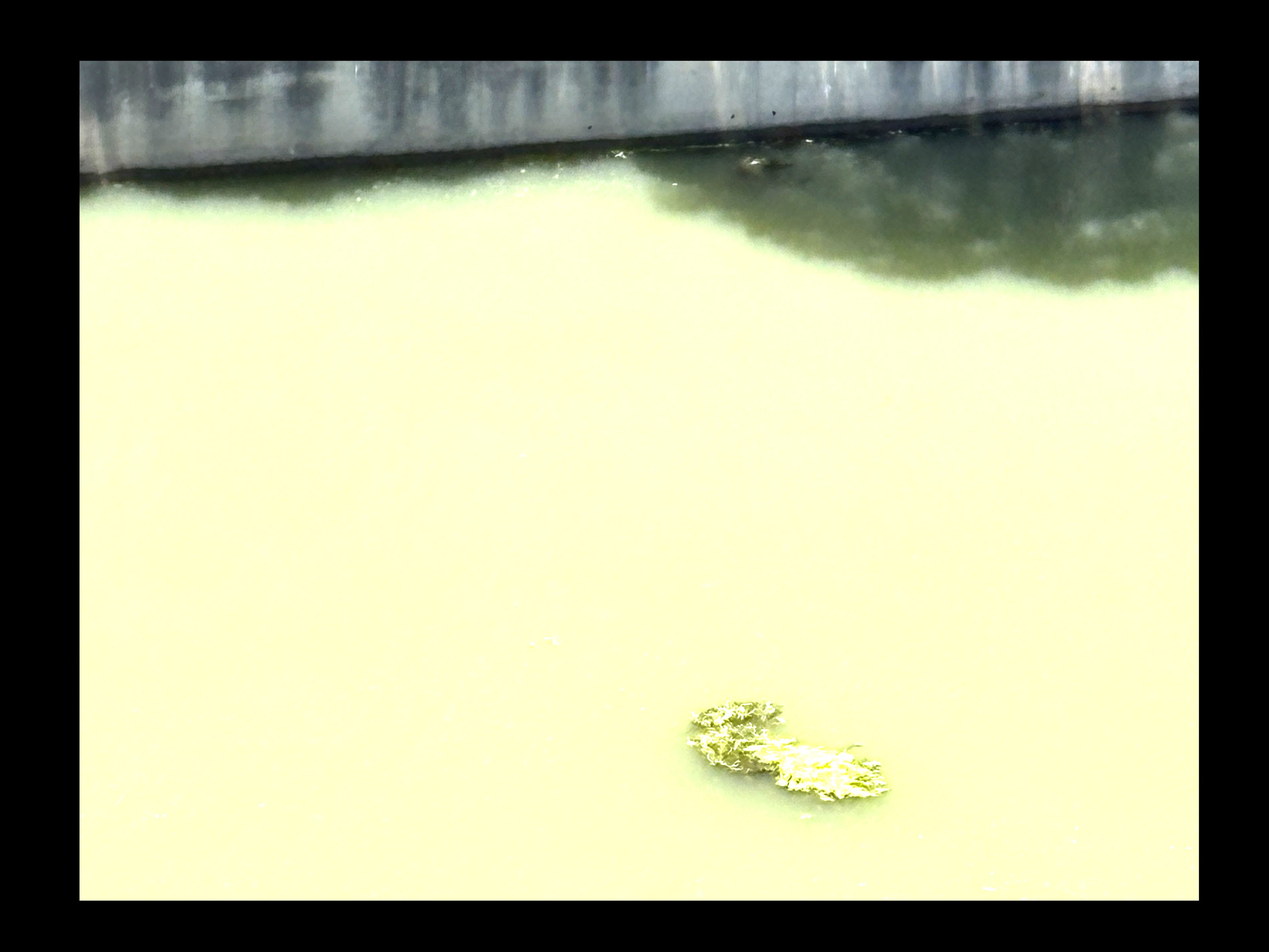Other: (691, 701, 900, 804)
